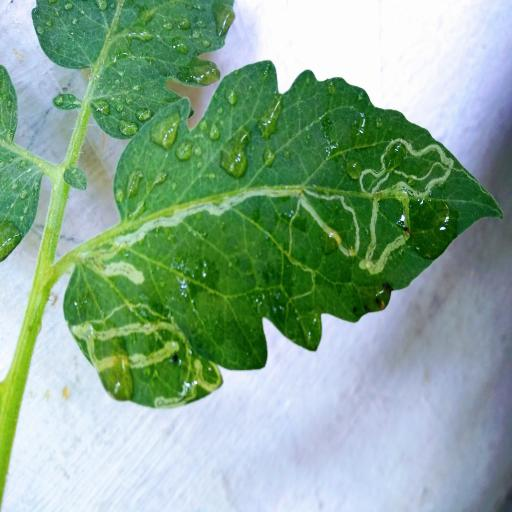Leaf Miner: (62, 55, 504, 411)
